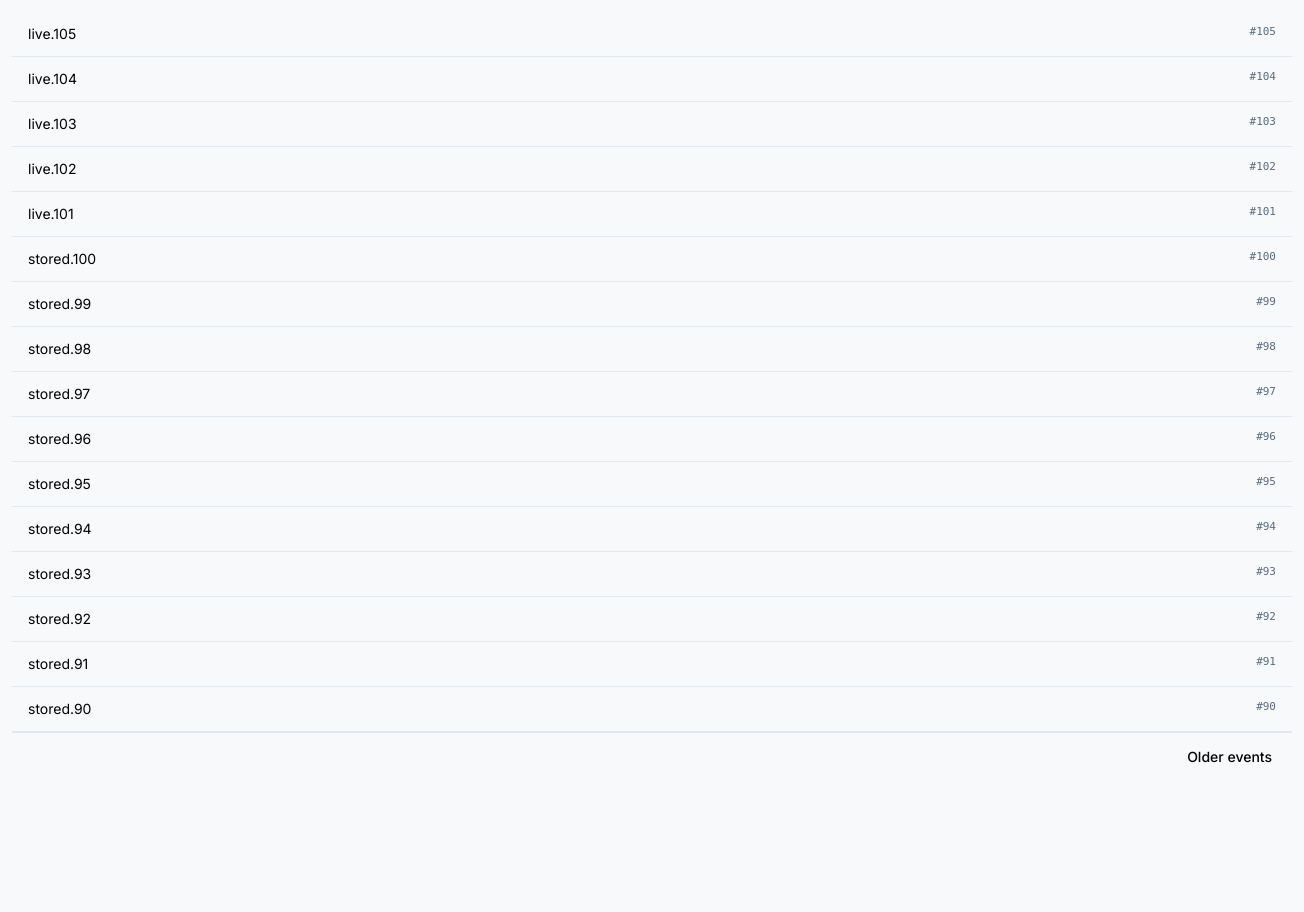
Test case: AuditPanel › continues paging from the oldest visible event after live events fill the newest page
The image size is (1304, 912).
Expected: the text "live.105" is shown, [28,25,76,42]
Expected: the text "stored.90" is shown, [28,700,92,717]
Click the button "Older events": (1230, 757) [1175,741,1284,773]
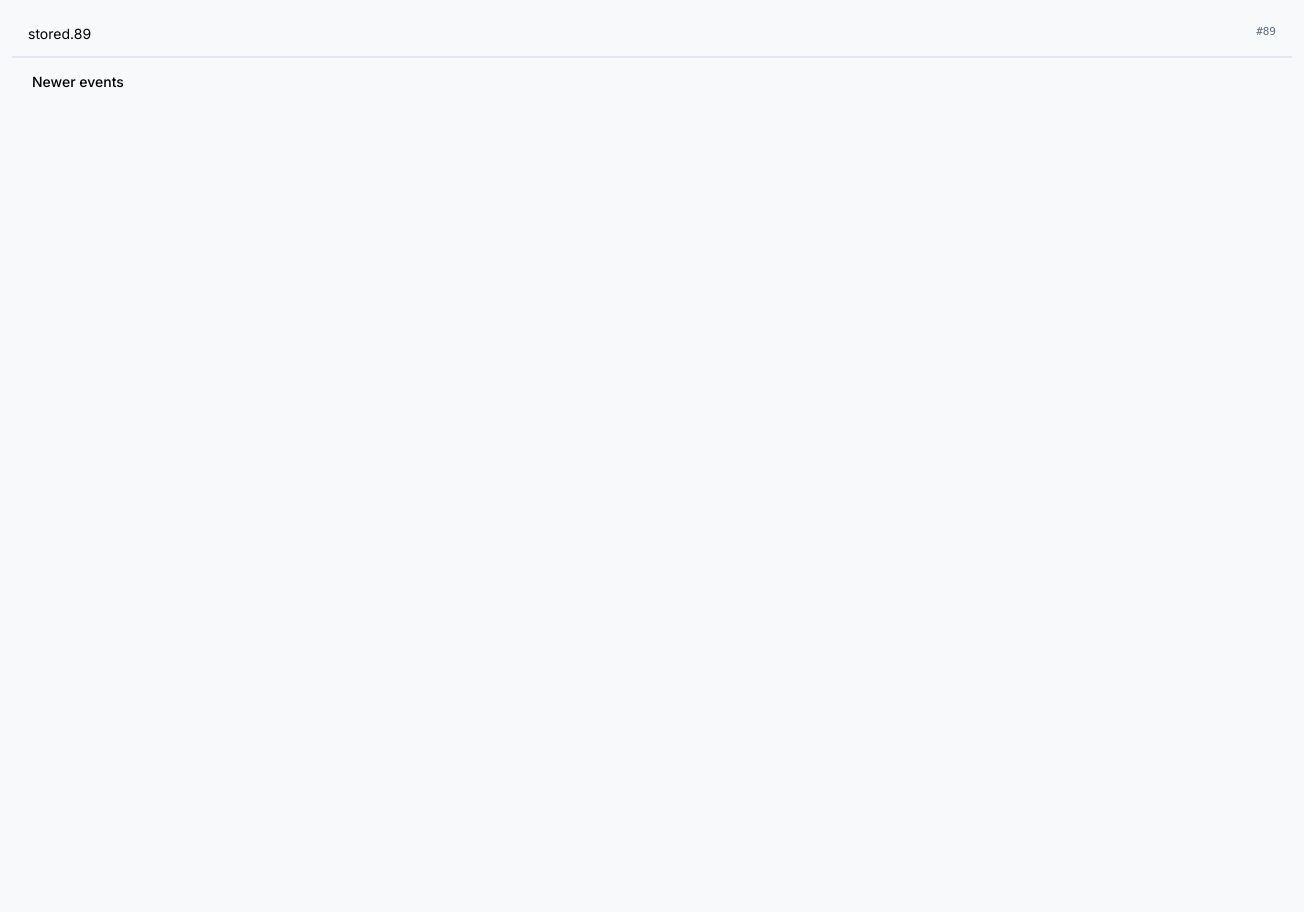
Expected: the text "stored.89" is shown, [28,25,91,42]
